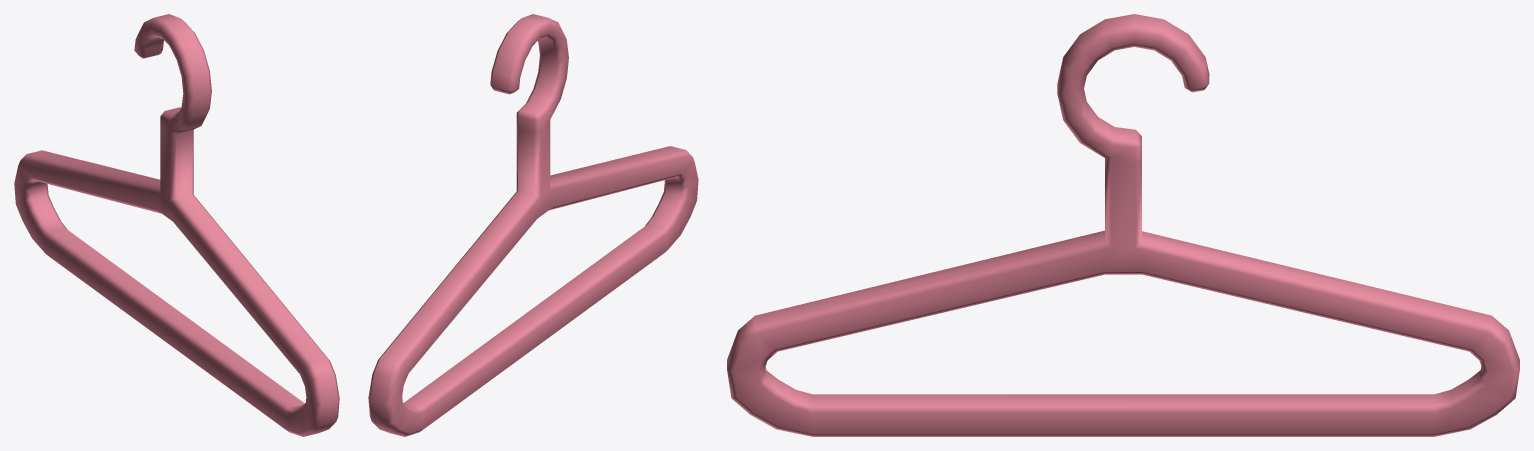
Rendered from Clothes_hanger_1.glb.
3 renders of one model, left to right at view 1: azimuth 30°, elevation 25°; view 2: azimuth 150°, elevation 25°; view 3: azimuth 270°, elevation 25°, orthographic. The views are drawn at different scales.
Parts seen in each view (by area): view 1: Clothes_hanger_1; view 2: Clothes_hanger_1; view 3: Clothes_hanger_1.
Boxes of the visible parts, x1,y1,x2,y2 form: Clothes_hanger_1: (14, 14, 339, 436); Clothes_hanger_1: (368, 14, 698, 436); Clothes_hanger_1: (727, 14, 1519, 436).
Size of the model in its own units: 0.017 by 0.2179 by 0.3789.
Materials: 1 (1 with a texture image).
